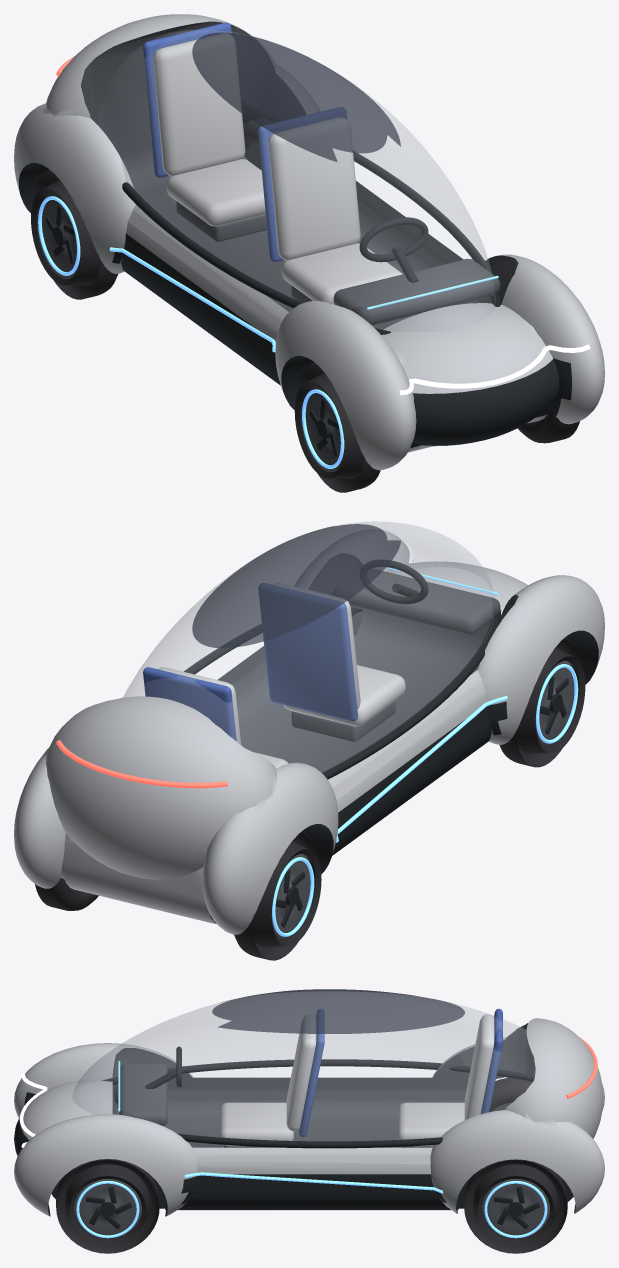
Rendered from tandem-ev.glb.
3 views of the same model, one above another, from view 1: azimuth 30°, elevation 25°; view 2: azimuth 150°, elevation 25°; view 3: azimuth 270°, elevation 25° (orthographic). The views are drawn at different scales.
Parts seen in each view (by area): view 1: tandem_body, tandem_canopy, tandem_back_front, tandem_back_rear, tandem_wheelR-1, tandem_wheelF-1, tandem_dash, tandem_seat_rear, tandem_canopy_rim, tandem_seat_front, tandem_shell_rear, tandem_shell_front (+6 smaller); view 2: tandem_body, tandem_canopy, tandem_shell_front, tandem_wheelR-1, tandem_wheelF-1, tandem_dash, tandem_shell_rear, tandem_canopy_rim, tandem_seat_front, tandem_seatbase_front, tandem_yoke, tandem_wheelR+1 (+4 smaller); view 3: tandem_body, tandem_canopy, tandem_wheelF+1, tandem_wheelR+1, tandem_canopy_rim, tandem_seat_front, tandem_dash, tandem_seat_rear, tandem_back_front, tandem_back_rear, tandem_shell_front, tandem_sideglow+1 (+3 smaller).
Boxes of the visible parts, <box> form: tandem_body: <box>14,14,604,470</box>; tandem_canopy: <box>98,30,495,331</box>; tandem_back_front: <box>268,117,360,260</box>; tandem_back_rear: <box>153,33,245,176</box>; tandem_wheelR-1: <box>31,169,117,299</box>; tandem_wheelF-1: <box>294,362,380,492</box>; tandem_dash: <box>333,258,500,325</box>; tandem_seat_rear: <box>166,159,265,226</box>; tandem_canopy_rim: <box>122,101,500,334</box>; tandem_seat_front: <box>281,243,402,304</box>; tandem_shell_rear: <box>143,22,231,177</box>; tandem_shell_front: <box>258,107,346,261</box>; tandem_body: <box>14,530,604,934</box>; tandem_canopy: <box>123,521,494,772</box>; tandem_shell_front: <box>258,583,357,721</box>; tandem_wheelR-1: <box>234,831,321,960</box>; tandem_wheelF-1: <box>499,637,585,767</box>; tandem_dash: <box>334,569,500,634</box>; tandem_shell_rear: <box>143,667,236,741</box>; tandem_canopy_rim: <box>184,593,500,779</box>; tandem_seat_front: <box>283,665,405,726</box>; tandem_seatbase_front: <box>291,701,395,741</box>; tandem_yoke: <box>360,559,428,604</box>; tandem_wheelR+1: <box>35,878,98,910</box>; tandem_body: <box>14,1018,604,1216</box>; tandem_canopy: <box>72,989,535,1140</box>; tandem_wheelF+1: <box>56,1159,159,1253</box>; tandem_wheelR+1: <box>464,1159,567,1253</box>; tandem_canopy_rim: <box>102,1059,534,1148</box>; tandem_seat_front: <box>219,1102,293,1146</box>; tandem_dash: <box>119,1063,167,1126</box>; tandem_seat_rear: <box>397,1102,464,1146</box>; tandem_back_front: <box>286,1014,316,1131</box>; tandem_back_rear: <box>464,1014,494,1119</box>; tandem_shell_front: <box>299,1009,324,1137</box>; tandem_sideglow+1: <box>184,1172,443,1193</box>.
Size of the model in its own units: 1.41 by 1.47 by 3.65.
